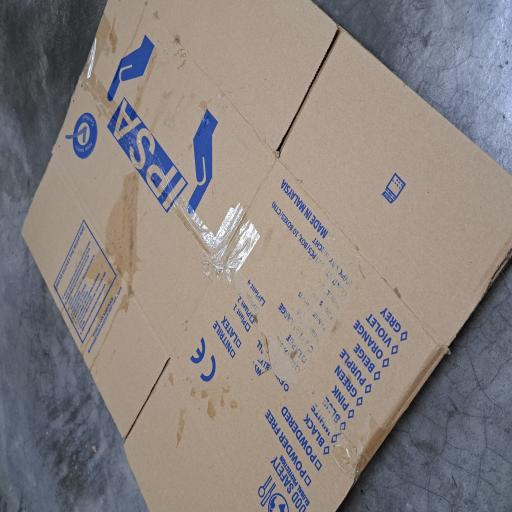cardboard: (0, 27, 384, 512)
